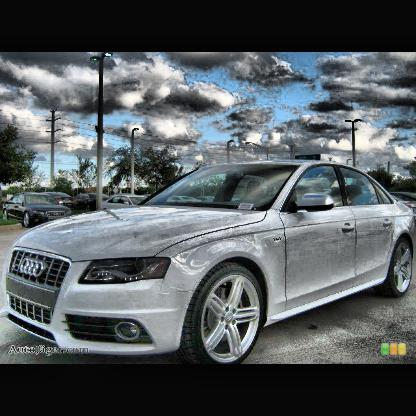Audi S4 Sedan 2012: (3, 159, 416, 364)
